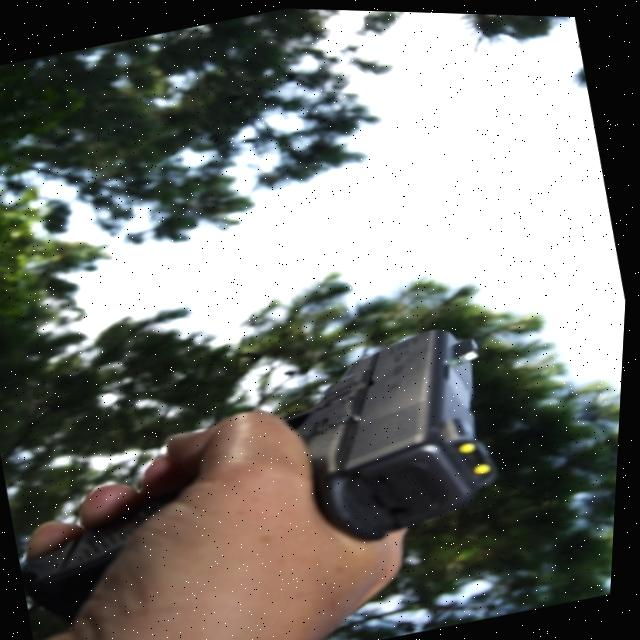pistol: (264, 310, 528, 559)
